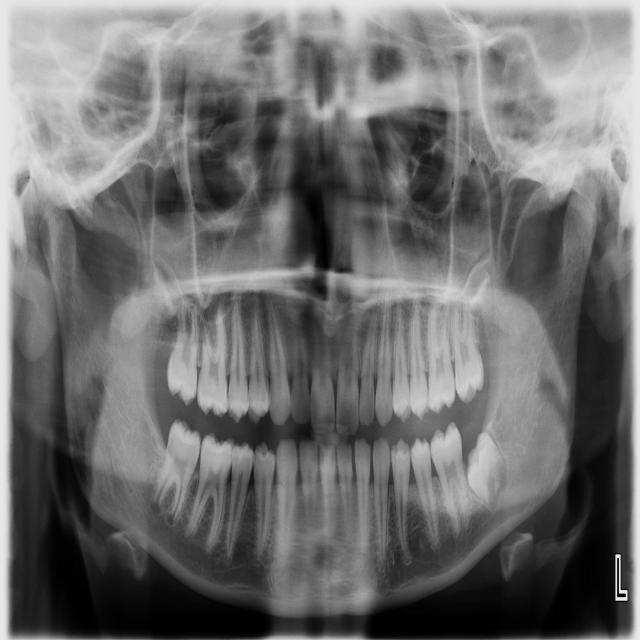mandibula: (37, 195, 598, 614)
